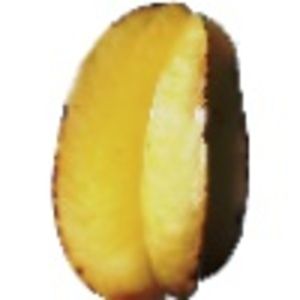carambola: (50, 1, 250, 300)
